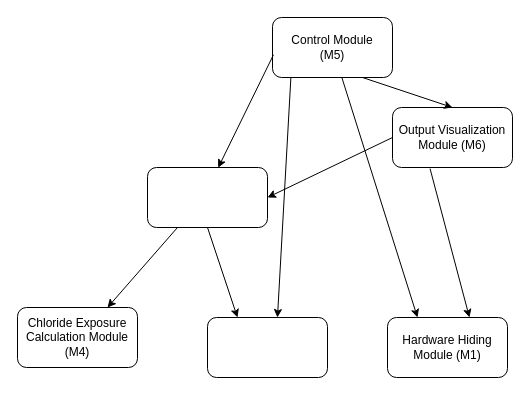
The diagram is 530 pixels wide and 395 high, and some of its shapes have lost their labels. The centre of each missing label's shape, as x and y in pixels:
"Data Searching Module (M3)" belongs at point (207, 197).
"Input Parameter Module (M2)" belongs at point (267, 347).
